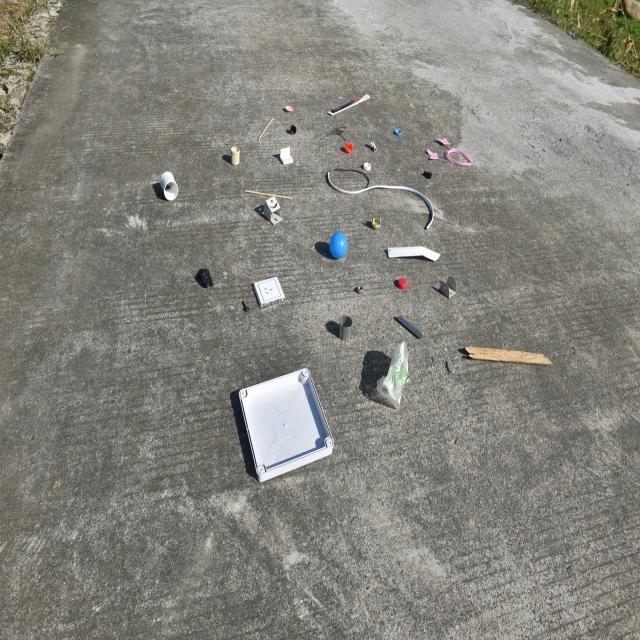Debris: (232, 369, 333, 493), (367, 340, 417, 410), (455, 345, 556, 375), (323, 166, 407, 198), (419, 124, 483, 164), (143, 169, 191, 208), (186, 260, 224, 302), (249, 276, 293, 312), (329, 85, 380, 115), (380, 245, 454, 264), (252, 192, 290, 227), (393, 309, 427, 340), (429, 269, 460, 299), (333, 126, 358, 156), (328, 229, 348, 262), (334, 312, 356, 340), (228, 146, 248, 169), (275, 146, 298, 166), (278, 100, 301, 118), (282, 118, 303, 136), (392, 278, 410, 298), (368, 208, 383, 230), (344, 283, 370, 295), (418, 166, 436, 180), (368, 136, 379, 157), (392, 120, 401, 142), (358, 163, 372, 176)
